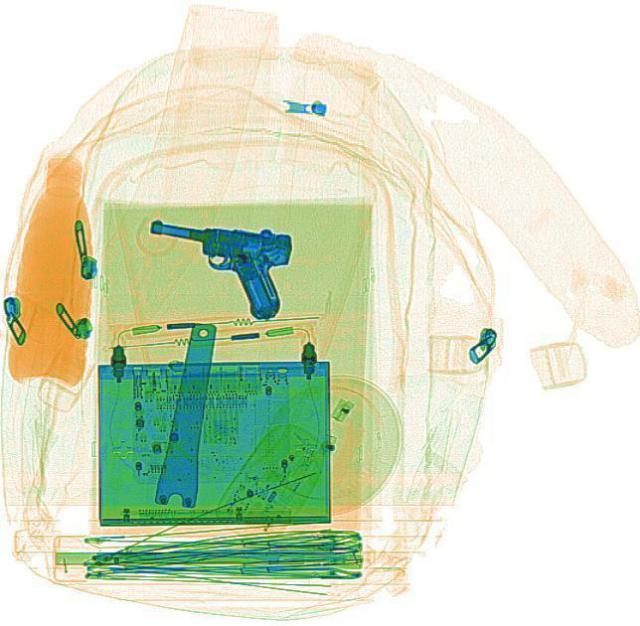Gun: (137, 209, 296, 319)
